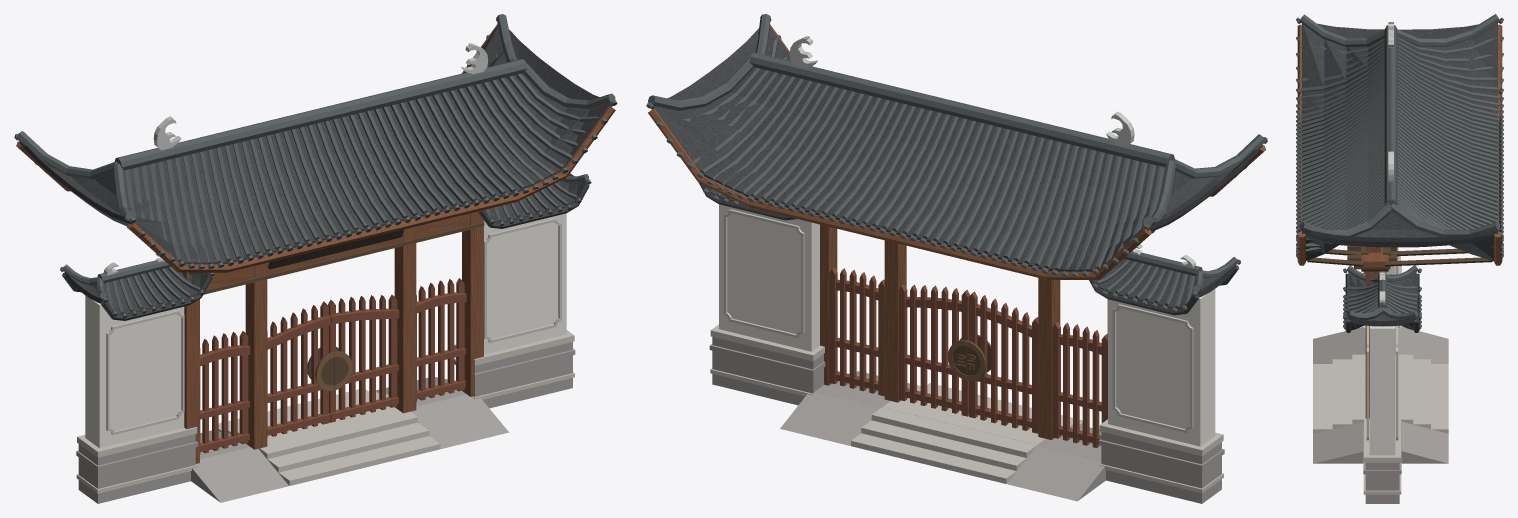
The model's file is lod-source.glb.
3 views of the same model, side by side, from view 1: azimuth 30°, elevation 25°; view 2: azimuth 150°, elevation 25°; view 3: azimuth 270°, elevation 25° (orthographic). The views are drawn at different scales.
Visible parts, largest first — view 1: 复旦大学邯郸校区老校门; view 2: 复旦大学邯郸校区老校门; view 3: 复旦大学邯郸校区老校门.
Boxes of the visible parts, box(x1,y1,x2,y2) form: 复旦大学邯郸校区老校门: box(14, 14, 617, 503); 复旦大学邯郸校区老校门: box(646, 14, 1267, 503); 复旦大学邯郸校区老校门: box(1296, 14, 1503, 503).
Size of the model in its own units: 8.24 by 5.7 by 3.42.
Materials: 12 (2 with a texture image).
